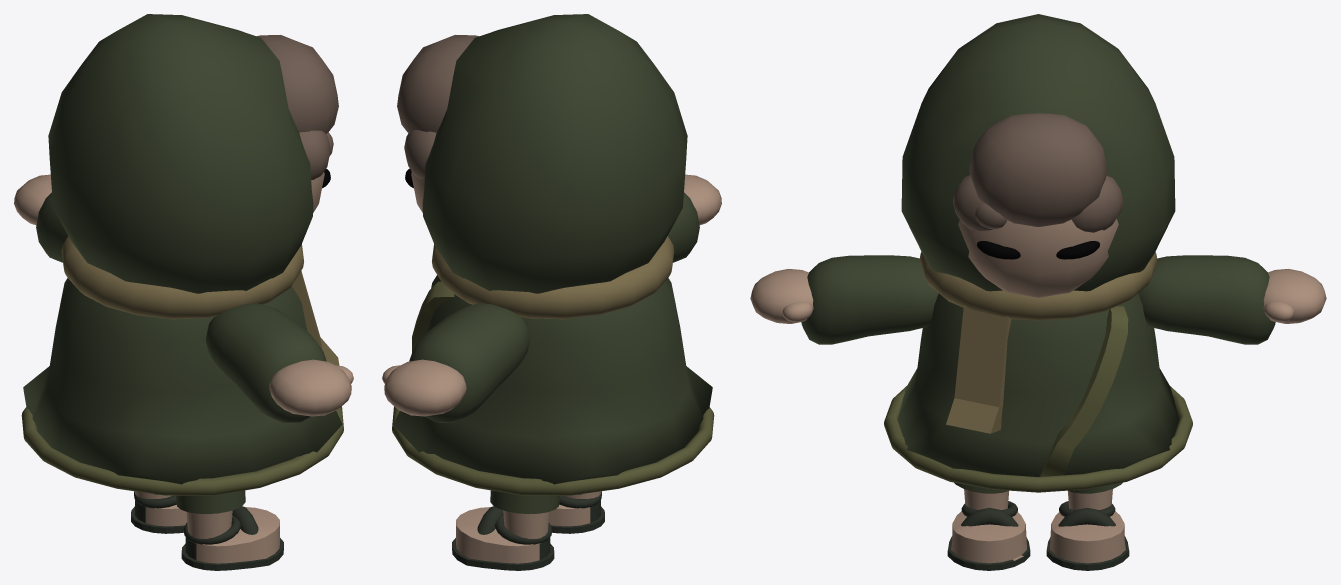
File: OLD WOMAN green.fbx
3 views of the same model, side by side, from view 1: azimuth 30°, elevation 25°; view 2: azimuth 150°, elevation 25°; view 3: azimuth 270°, elevation 25° (orthographic). The views are drawn at different scales.
Visible parts, largest first — view 1: polySurface33; view 2: polySurface33; view 3: polySurface33.
Part boxes in pixels (x1,y1,x2,y2): polySurface33: [14, 14, 353, 570]; polySurface33: [382, 14, 721, 570]; polySurface33: [750, 14, 1326, 570].
Size of the model in its own units: 0.0247 by 0.0433 by 0.0443.
